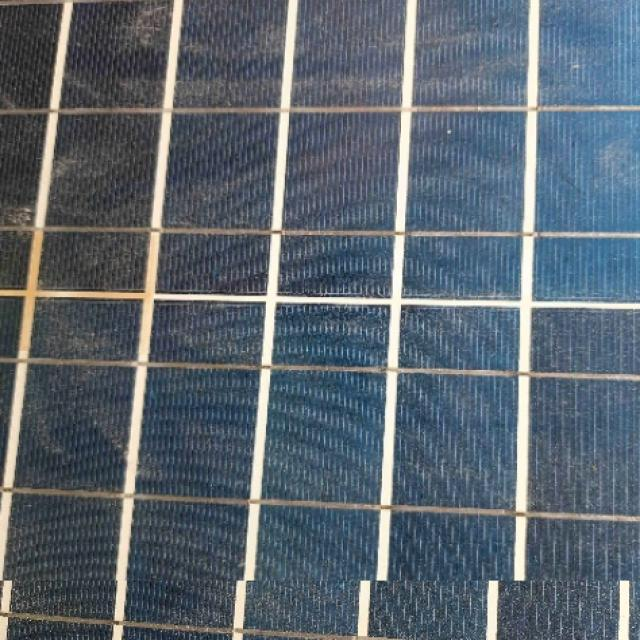Dirty: (0, 0, 640, 581)
